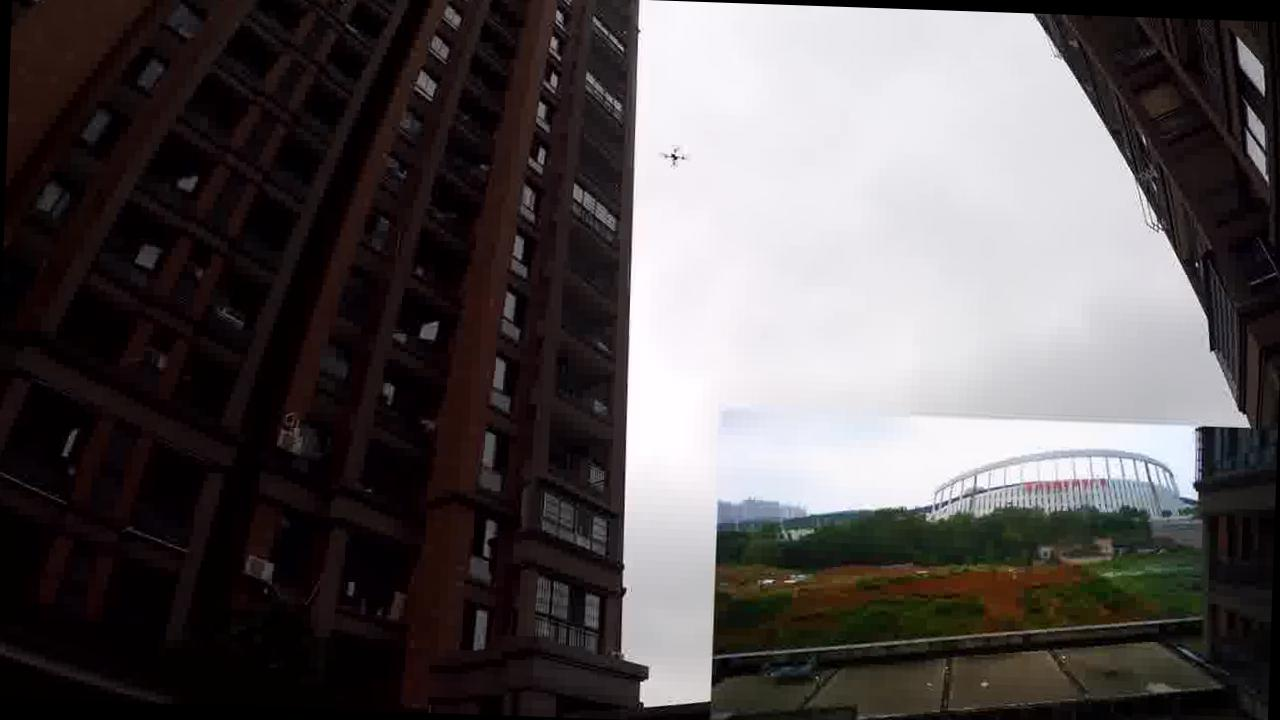drone: (654, 142, 690, 170)
